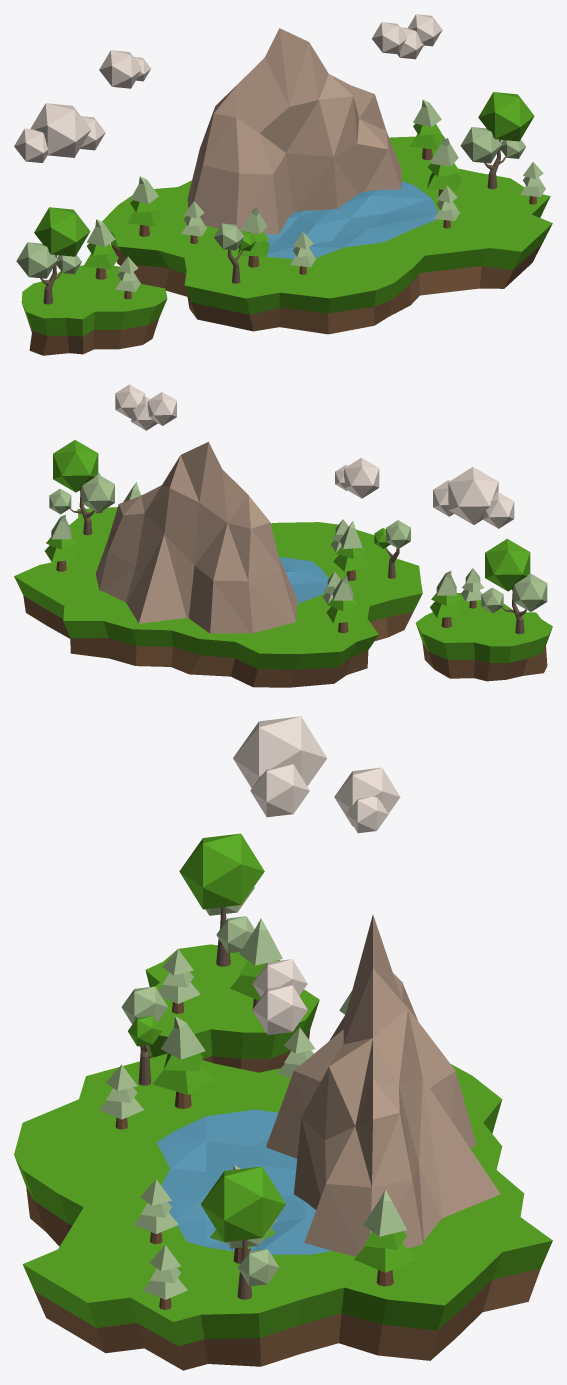
The model's file is Island_15.fbx.
3 views of the same model, one above another, from view 1: azimuth 30°, elevation 25°; view 2: azimuth 150°, elevation 25°; view 3: azimuth 270°, elevation 25° (orthographic). The views are drawn at different scales.
Visible parts, largest first — view 1: Island_15, Island_15_Rock; view 2: Island_15, Island_15_Rock; view 3: Island_15, Island_15_Rock.
Boxes of the visible parts, <box> form: Island_15: <box>14,14,552,355</box>; Island_15_Rock: <box>187,28,401,234</box>; Island_15: <box>14,384,552,687</box>; Island_15_Rock: <box>95,442,297,633</box>; Island_15: <box>14,716,552,1370</box>; Island_15_Rock: <box>266,914,500,1256</box>.
Bounding box in the file's own units: 6237 × 3746 × 2623.
